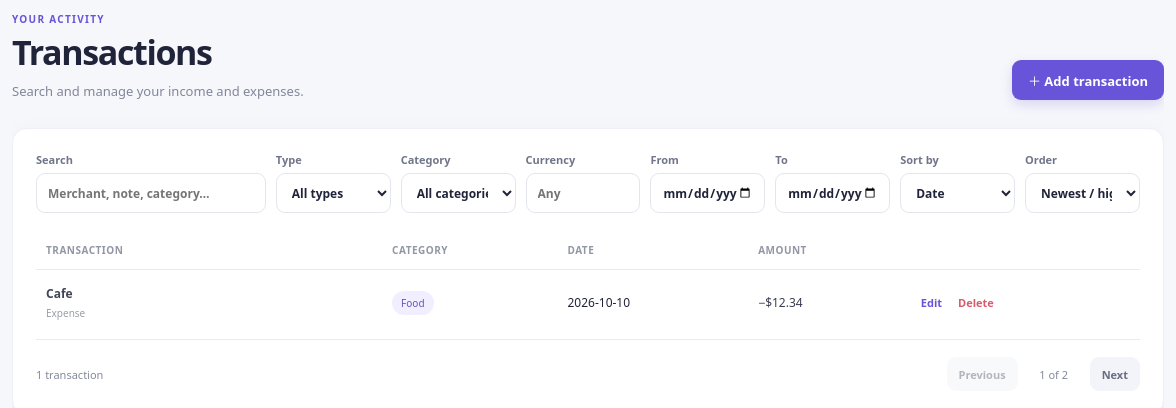
Test: TransactionsPage API integration › loads server results and sends search, filters, sort, and page through the API client
The width and height of the screenshot is (1176, 408).
Check: the text "Cafe" is shown, box [46,285,73,302]
Type "coffee" into the search field labelled "Search" at (151, 193), box [36,173,266,213]
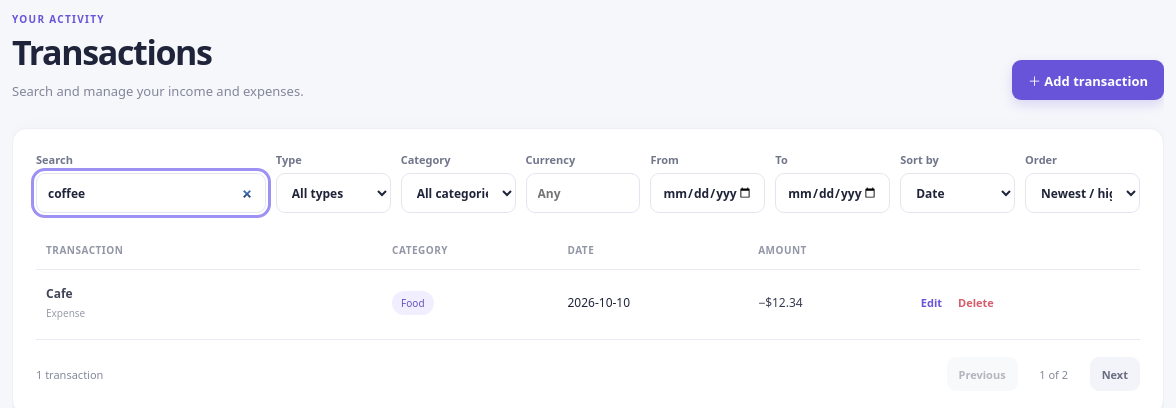
Select "Expense" in the dropdown labelled "Type" at (333, 193), box [276,173,391,213]
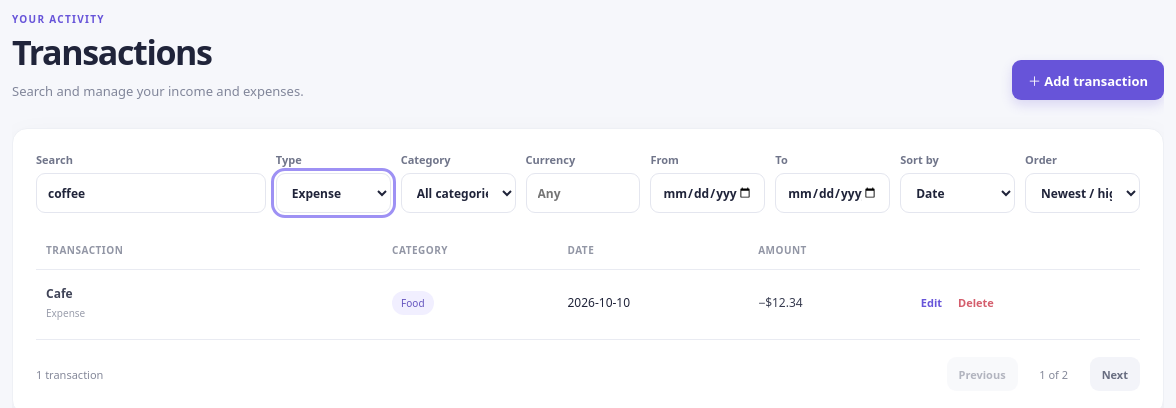
Select "Amount" in the dropdown labelled "Sort by" at (958, 193), box [900,173,1015,213]
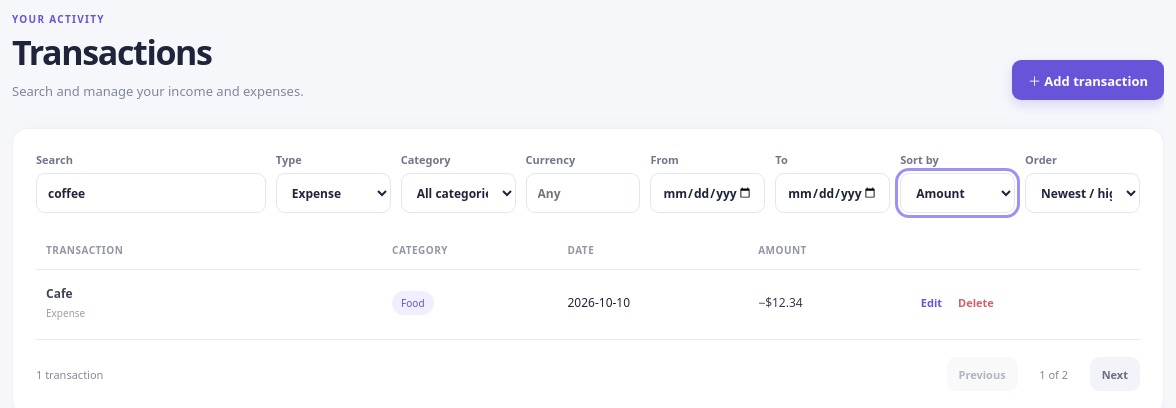
Select "Oldest / lowest" in the dropdown labelled "Order" at (1083, 193), box [1025,173,1140,213]
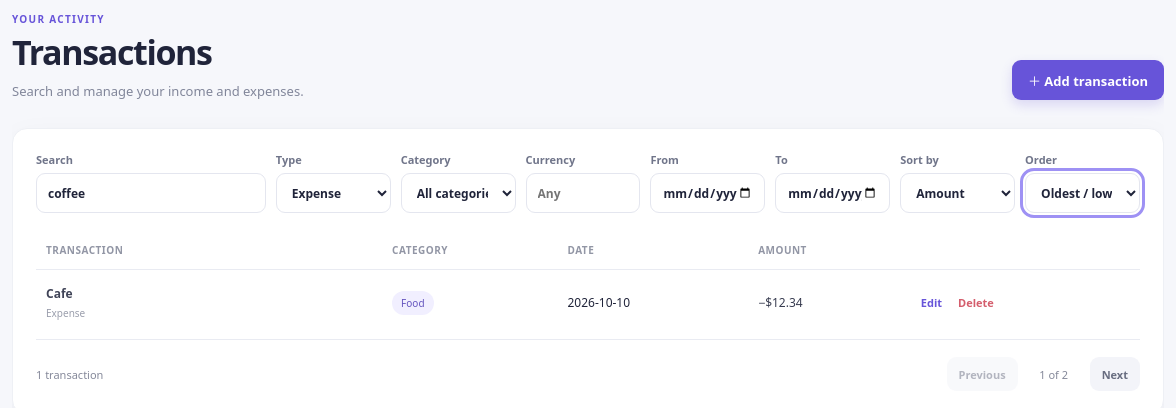
Click the button "Next" at (1115, 374), box [1090,357,1140,391]
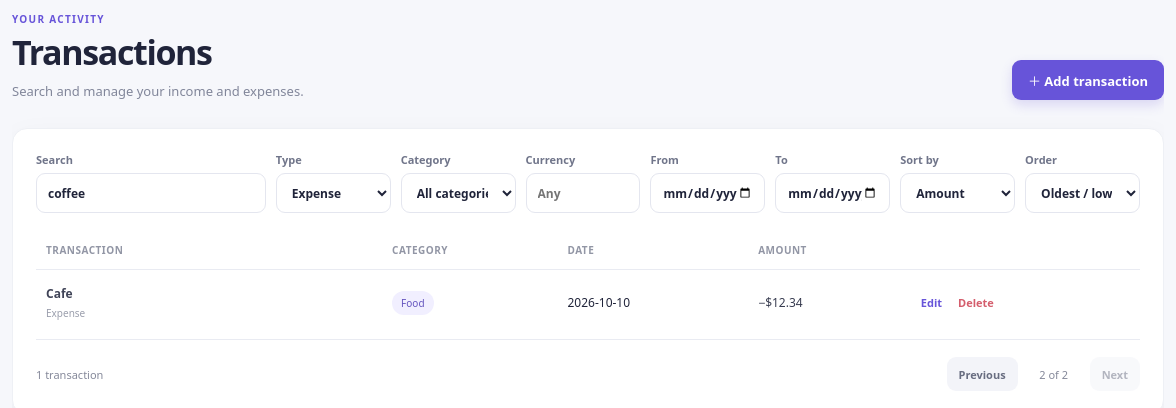
Check: the text "2 of 2" is shown, box [1039,366,1068,382]
